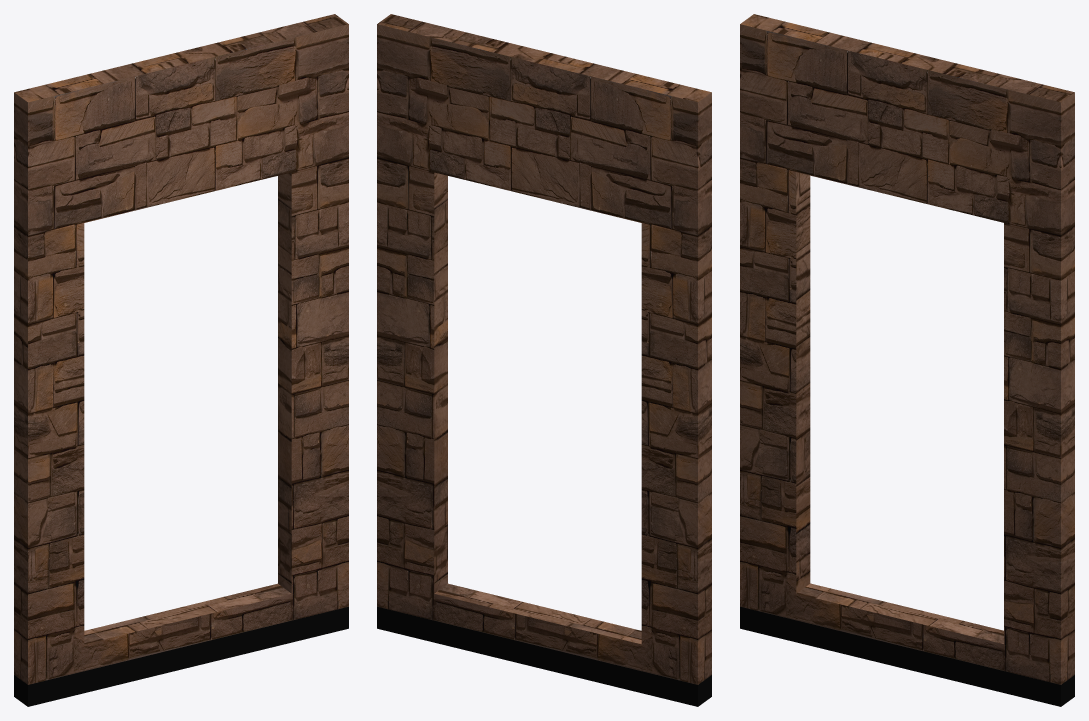
Rendered from ARC0210047.fbx.
The picture shows the model from 3 angles, left to right: view 1: azimuth 30°, elevation 25°; view 2: azimuth 150°, elevation 25°; view 3: azimuth 330°, elevation 25°; orthographic projection.
Visible parts, largest first — view 1: smARC0210047; view 2: smARC0210047; view 3: smARC0210047.
Boxes of the visible parts, box(x1,y1,x2,y2) form: smARC0210047: box(14, 14, 348, 706); smARC0210047: box(377, 14, 711, 706); smARC0210047: box(740, 14, 1074, 706).
Size of the model in its own units: 182 by 328 by 13.67.
1 material, 1 textured.
